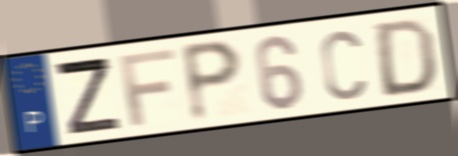6: (252, 32, 306, 113)
C: (318, 27, 368, 104)
D: (374, 16, 437, 100)
F: (116, 46, 178, 128)
P: (178, 37, 245, 126)
Z: (50, 55, 124, 137)
